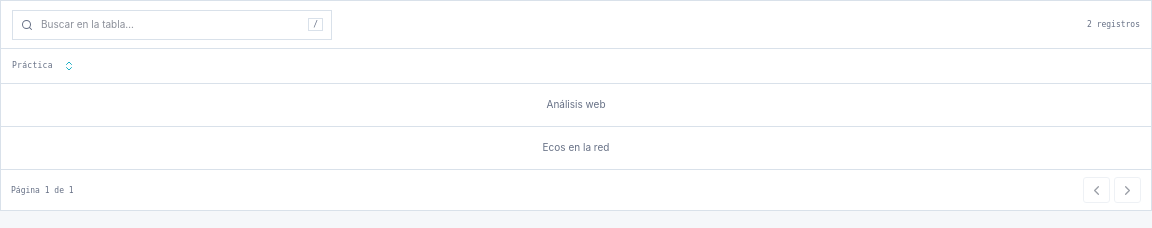
Test case: shared interaction components › filters the TanStack table from its search field
The width and height of the screenshot is (1152, 228).
In the field named "Buscar en la tabla": (171, 24) [41,17,300,32], type "Ecos"
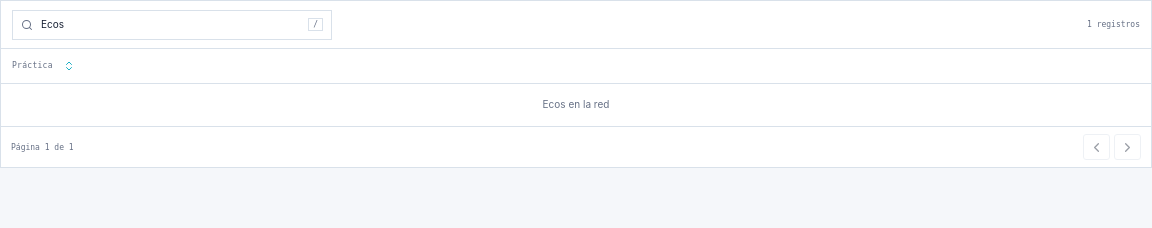
Expected: the text "Ecos en la red" is shown, [1,83,1151,126]
Result: the text "Análisis web" is gone
